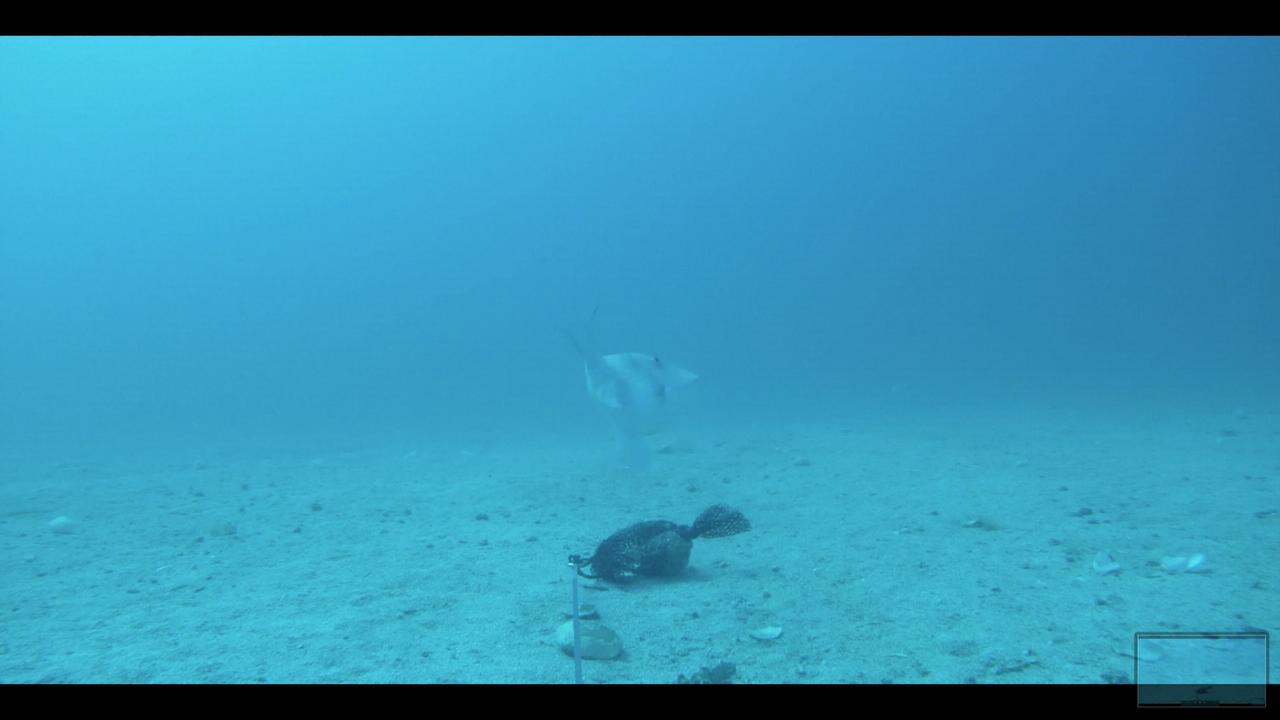balistes: (557, 302, 708, 475)
